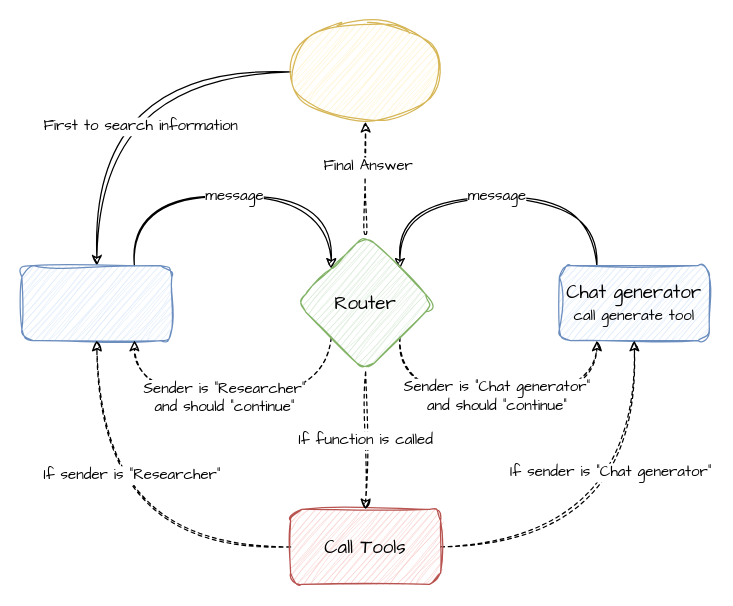
The diagram is 733 pixels wide and 606 high, and some of its shapes have lost their labels. The centre of each missing label's shape, as x and y in pixels:
"Researcher call search tool" goes at (96,302).
"user need xxx a chat" goes at (365,71).
